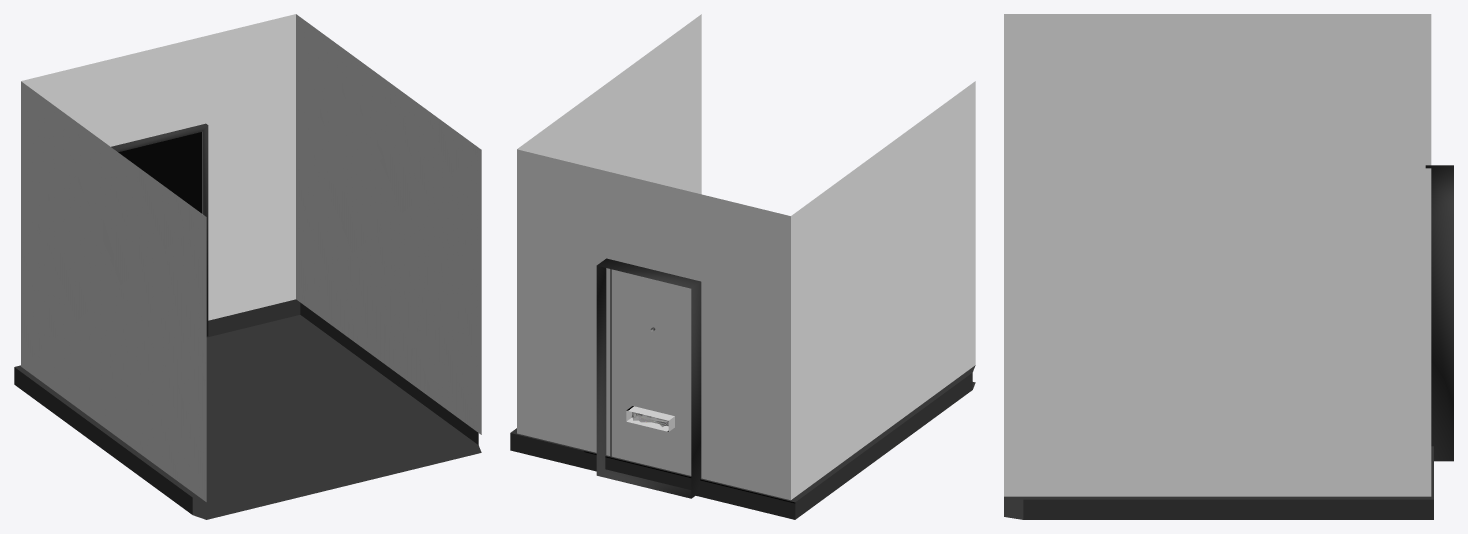
The model's file is entrance.obj.
3 views of the same model, side by side, from view 1: azimuth 30°, elevation 25°; view 2: azimuth 150°, elevation 25°; view 3: azimuth 270°, elevation 25° (orthographic). The views are drawn at different scales.
Visible parts, largest first — view 1: Circle.003; view 2: Circle.003; view 3: Circle.003.
Part boxes in pixels (left/top/right/bottom): Circle.003: left=14, top=14, right=481, bottom=519; Circle.003: left=510, top=14, right=975, bottom=519; Circle.003: left=1004, top=14, right=1453, bottom=519.
Size of the model in its own units: 2.7 by 2.73 by 3.19.
2 materials, 2 textured.
